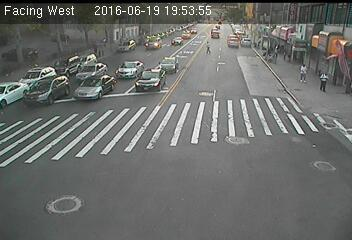neg: (77, 50, 109, 93), (281, 138, 309, 175), (39, 108, 67, 145), (141, 59, 168, 95), (234, 122, 257, 153), (258, 50, 280, 80), (132, 114, 153, 142), (212, 176, 232, 203), (51, 186, 71, 213), (140, 172, 159, 197), (186, 109, 203, 132), (231, 71, 248, 93), (313, 29, 326, 46)
pos: (296, 61, 315, 85), (318, 70, 334, 92), (202, 36, 215, 53)
